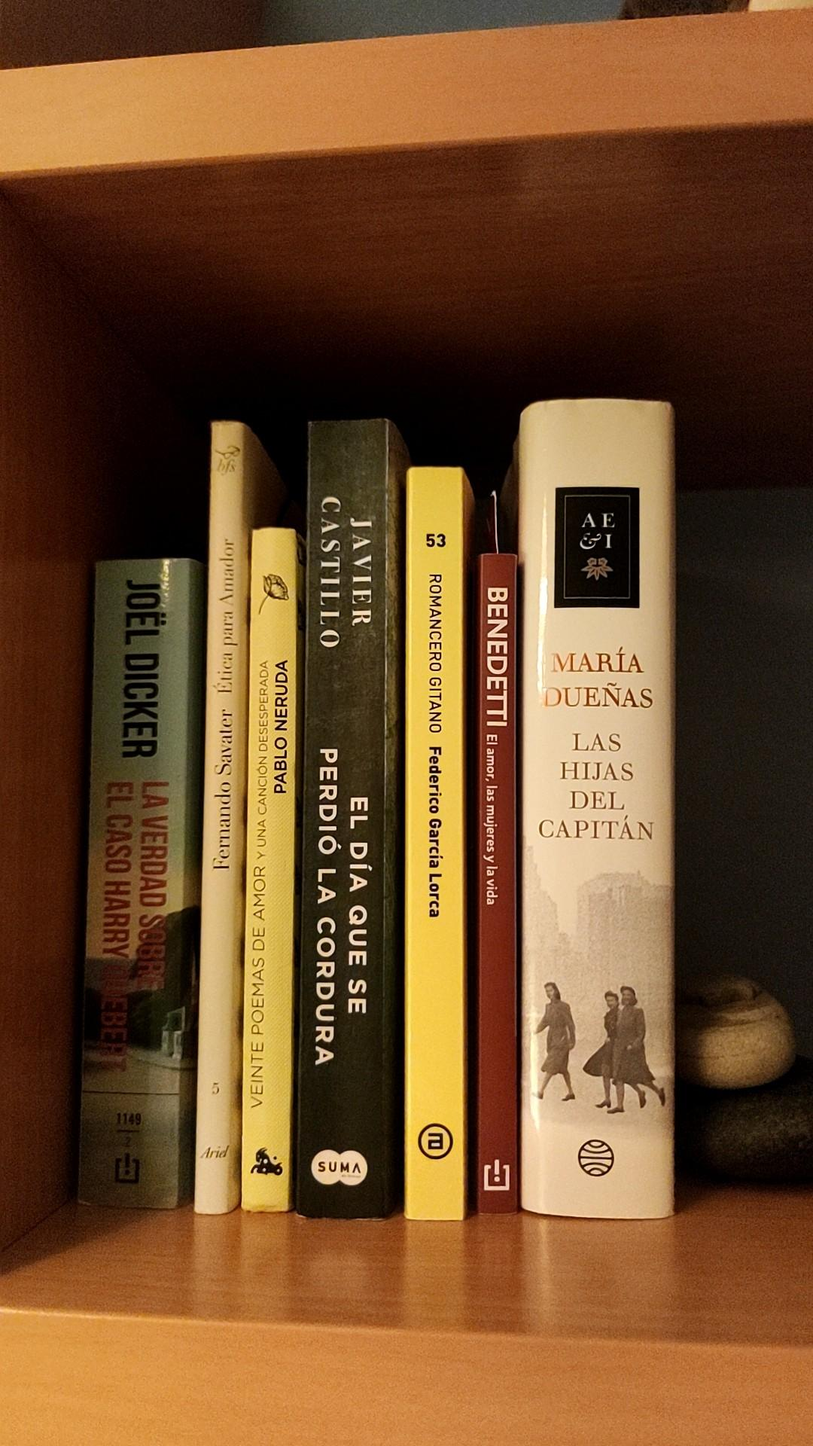book: (80, 398, 674, 1219)
